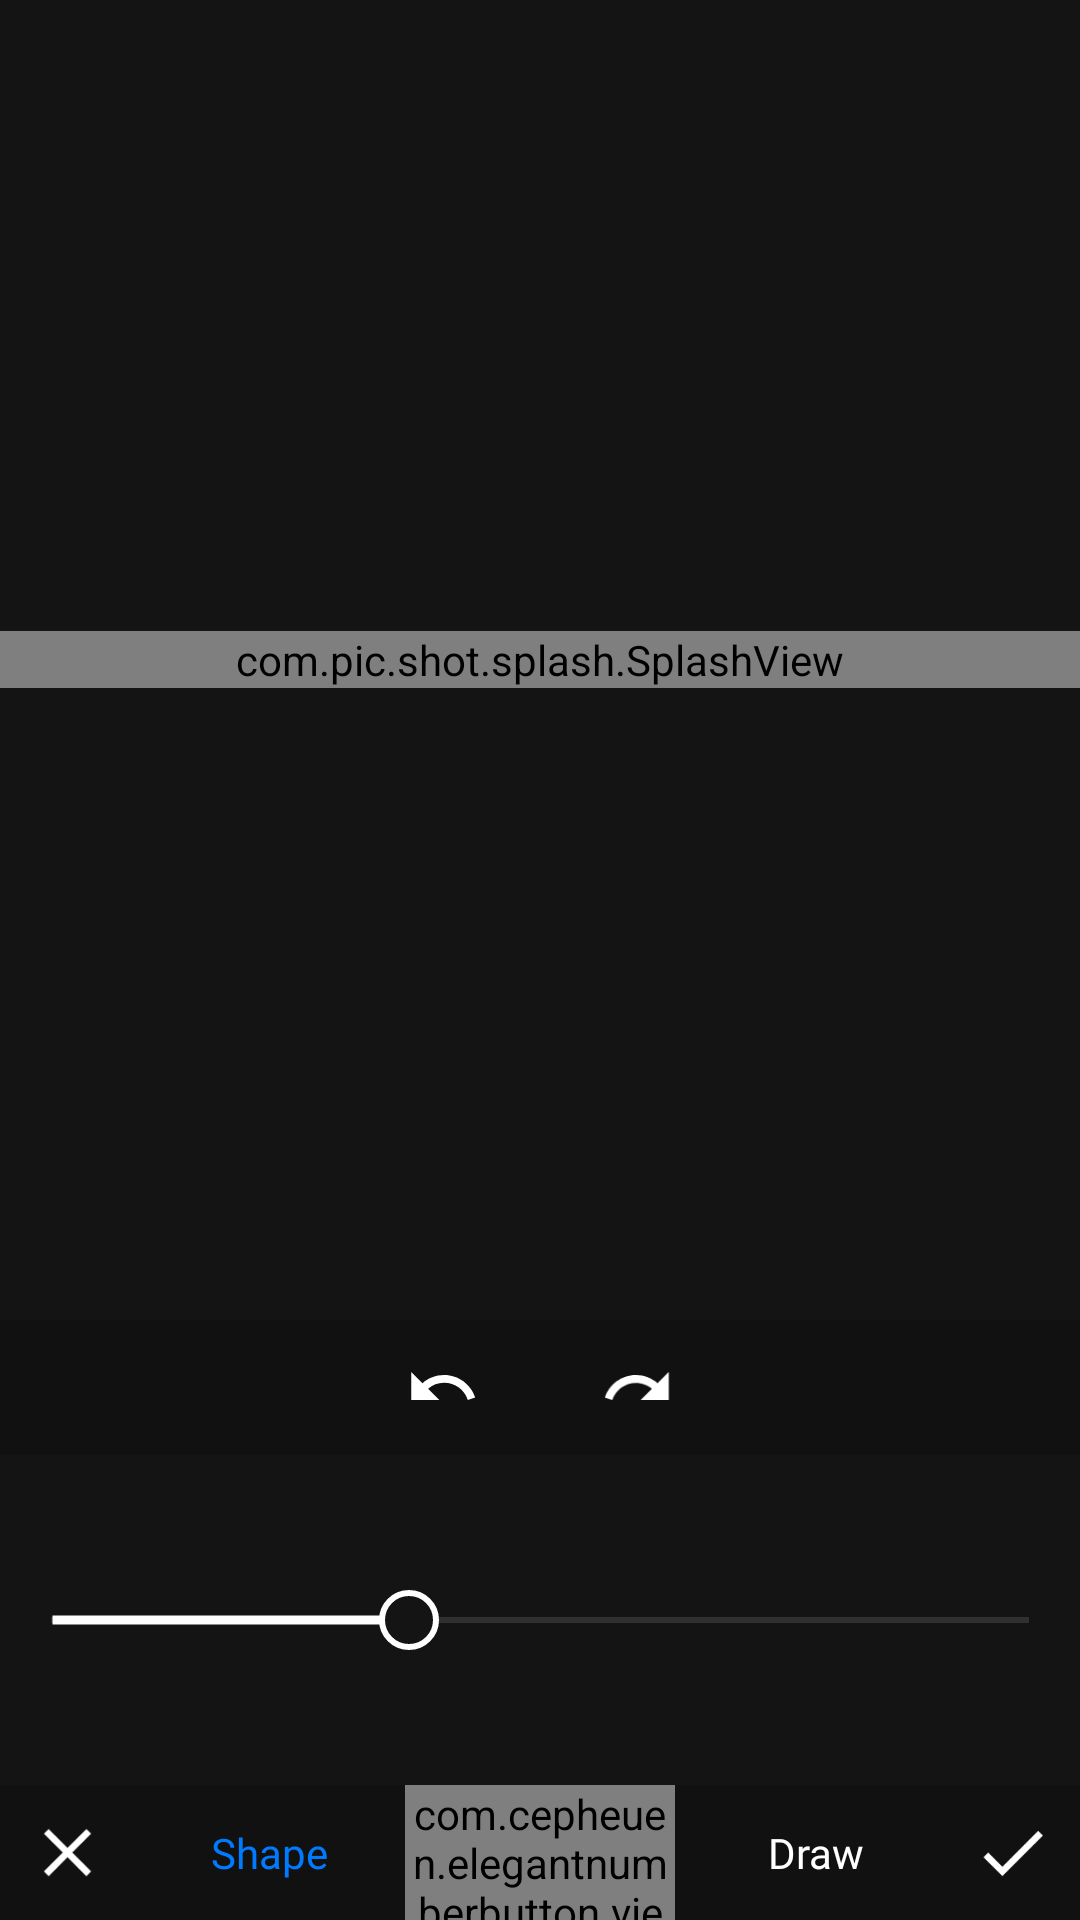

Point at icon controls on the screen. Image size 1080 × 1920, points as (x=x, y=y).
close: (x=67, y=1853)
done: (x=1013, y=1853)
redo: (x=637, y=1386)
undo: (x=443, y=1386)
